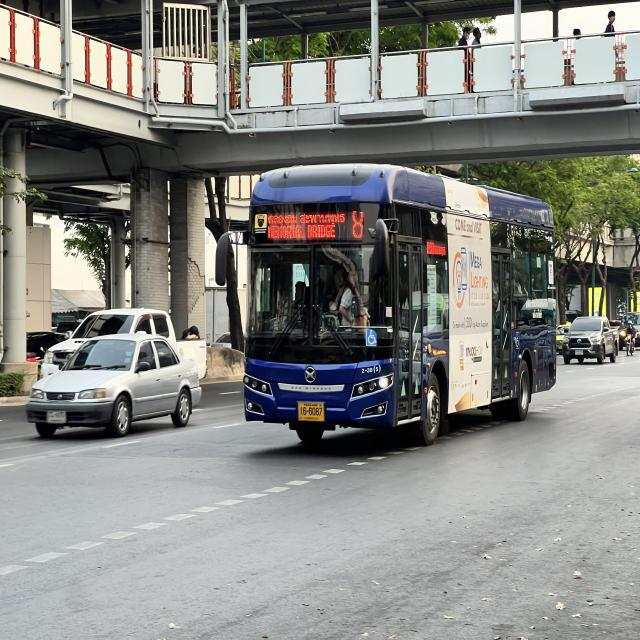Bus-Line-Number: (349, 206, 368, 240)
Destination-Sign-Normal: (266, 207, 347, 242)
TSB-Bus: (242, 158, 560, 461)
